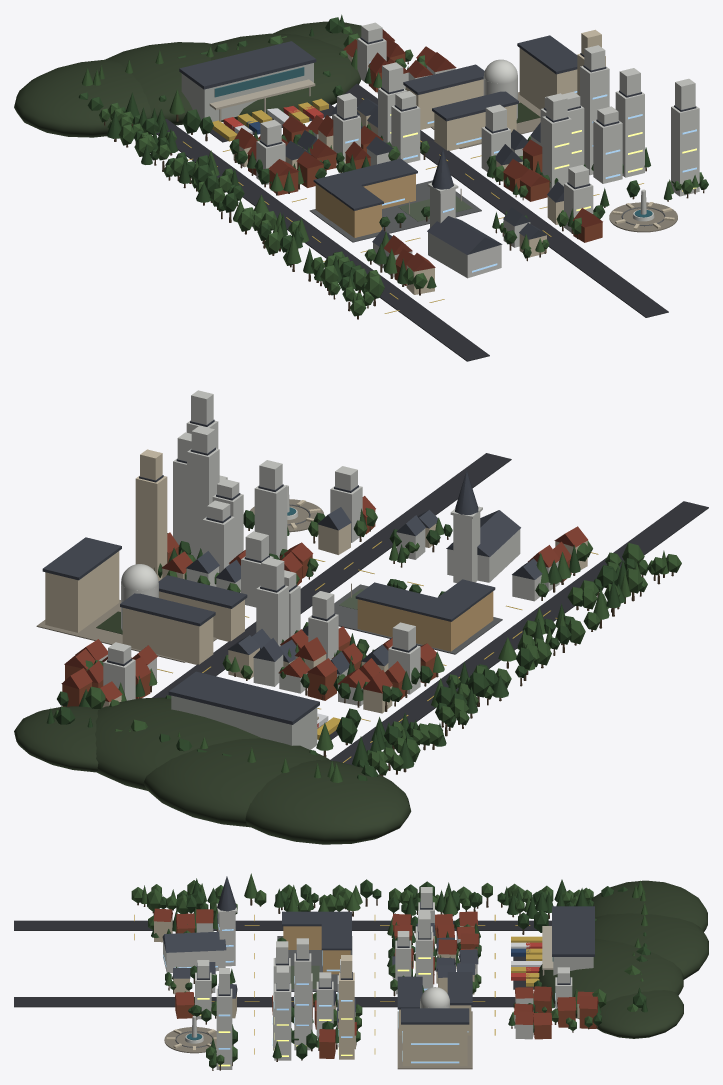
The model's file is maquette-ville-0.glb.
3 renders of one model, top to bottom at view 1: azimuth 30°, elevation 25°; view 2: azimuth 150°, elevation 25°; view 3: azimuth 270°, elevation 25°, orthographic. The views are drawn at different scales.
Parts seen in each view (by area): view 1: hill_0, rue_x1, rue_x0, hill_2, hill_1, toiture_supermarche_2, tower_shaft_46, halle_commerciale_2, bibliotheque_corps, tower_shaft_41, tower_shaft_38, tower_shaft_35 (+29 smaller); view 2: hill_0, hill_1, hill_2, rue_x0, rue_x1, hill_3, bibliotheque_corps, toiture_supermarche_2, faculte_des_sciences_corps, aile_principale, tower_shaft_40, halle_commerciale_2 (+28 smaller); view 3: hill_2, hill_1, hill_0, rue_x1, hill_3, rue_x0, bibliotheque_corps, toiture_supermarche_2, tower_shaft_38, tower_shaft_40, tower_shaft_41, tower_shaft_46 (+22 smaller).
Part boxes in pixels (x1,y1,x2,y2): hill_0: (14, 59, 151, 137); rue_x1: (342, 83, 668, 317); rue_x0: (156, 119, 489, 361); hill_2: (211, 33, 360, 122); hill_1: (105, 42, 212, 125); toiture_supermarche_2: (179, 41, 316, 89); tower_shaft_46: (671, 106, 699, 196); halle_commerciale_2: (181, 63, 313, 121); bibliotheque_corps: (519, 48, 577, 109); tower_shaft_41: (615, 91, 644, 177); tower_shaft_38: (580, 66, 609, 175); tower_shaft_35: (542, 116, 571, 190); hill_0: (245, 760, 411, 844); hill_1: (143, 738, 330, 827); hill_2: (95, 697, 260, 790); rue_x0: (330, 501, 708, 765); rue_x1: (152, 453, 511, 697); hill_3: (14, 706, 99, 772); bibliotheque_corps: (45, 551, 119, 632); toiture_supermarche_2: (168, 671, 319, 724); faculte_des_sciences_corps: (122, 608, 213, 664); aile_principale: (357, 599, 468, 651); tower_shaft_40: (135, 475, 167, 580); halle_commerciale_2: (171, 695, 317, 749); hill_2: (538, 938, 683, 1019); hill_1: (595, 913, 708, 979); hill_0: (591, 880, 707, 931); rue_x1: (14, 997, 555, 1007); hill_3: (597, 990, 683, 1038); rue_x0: (14, 920, 551, 930); bibliotheque_corps: (402, 1024, 467, 1066); toiture_supermarche_2: (552, 906, 594, 956); tower_shaft_38: (294, 953, 311, 1050); tower_shaft_40: (339, 972, 354, 1059); tower_shaft_41: (274, 983, 291, 1060); tower_shaft_46: (216, 988, 232, 1069).
Size of the model in its own units: 88.22 by 27.61 by 139.
